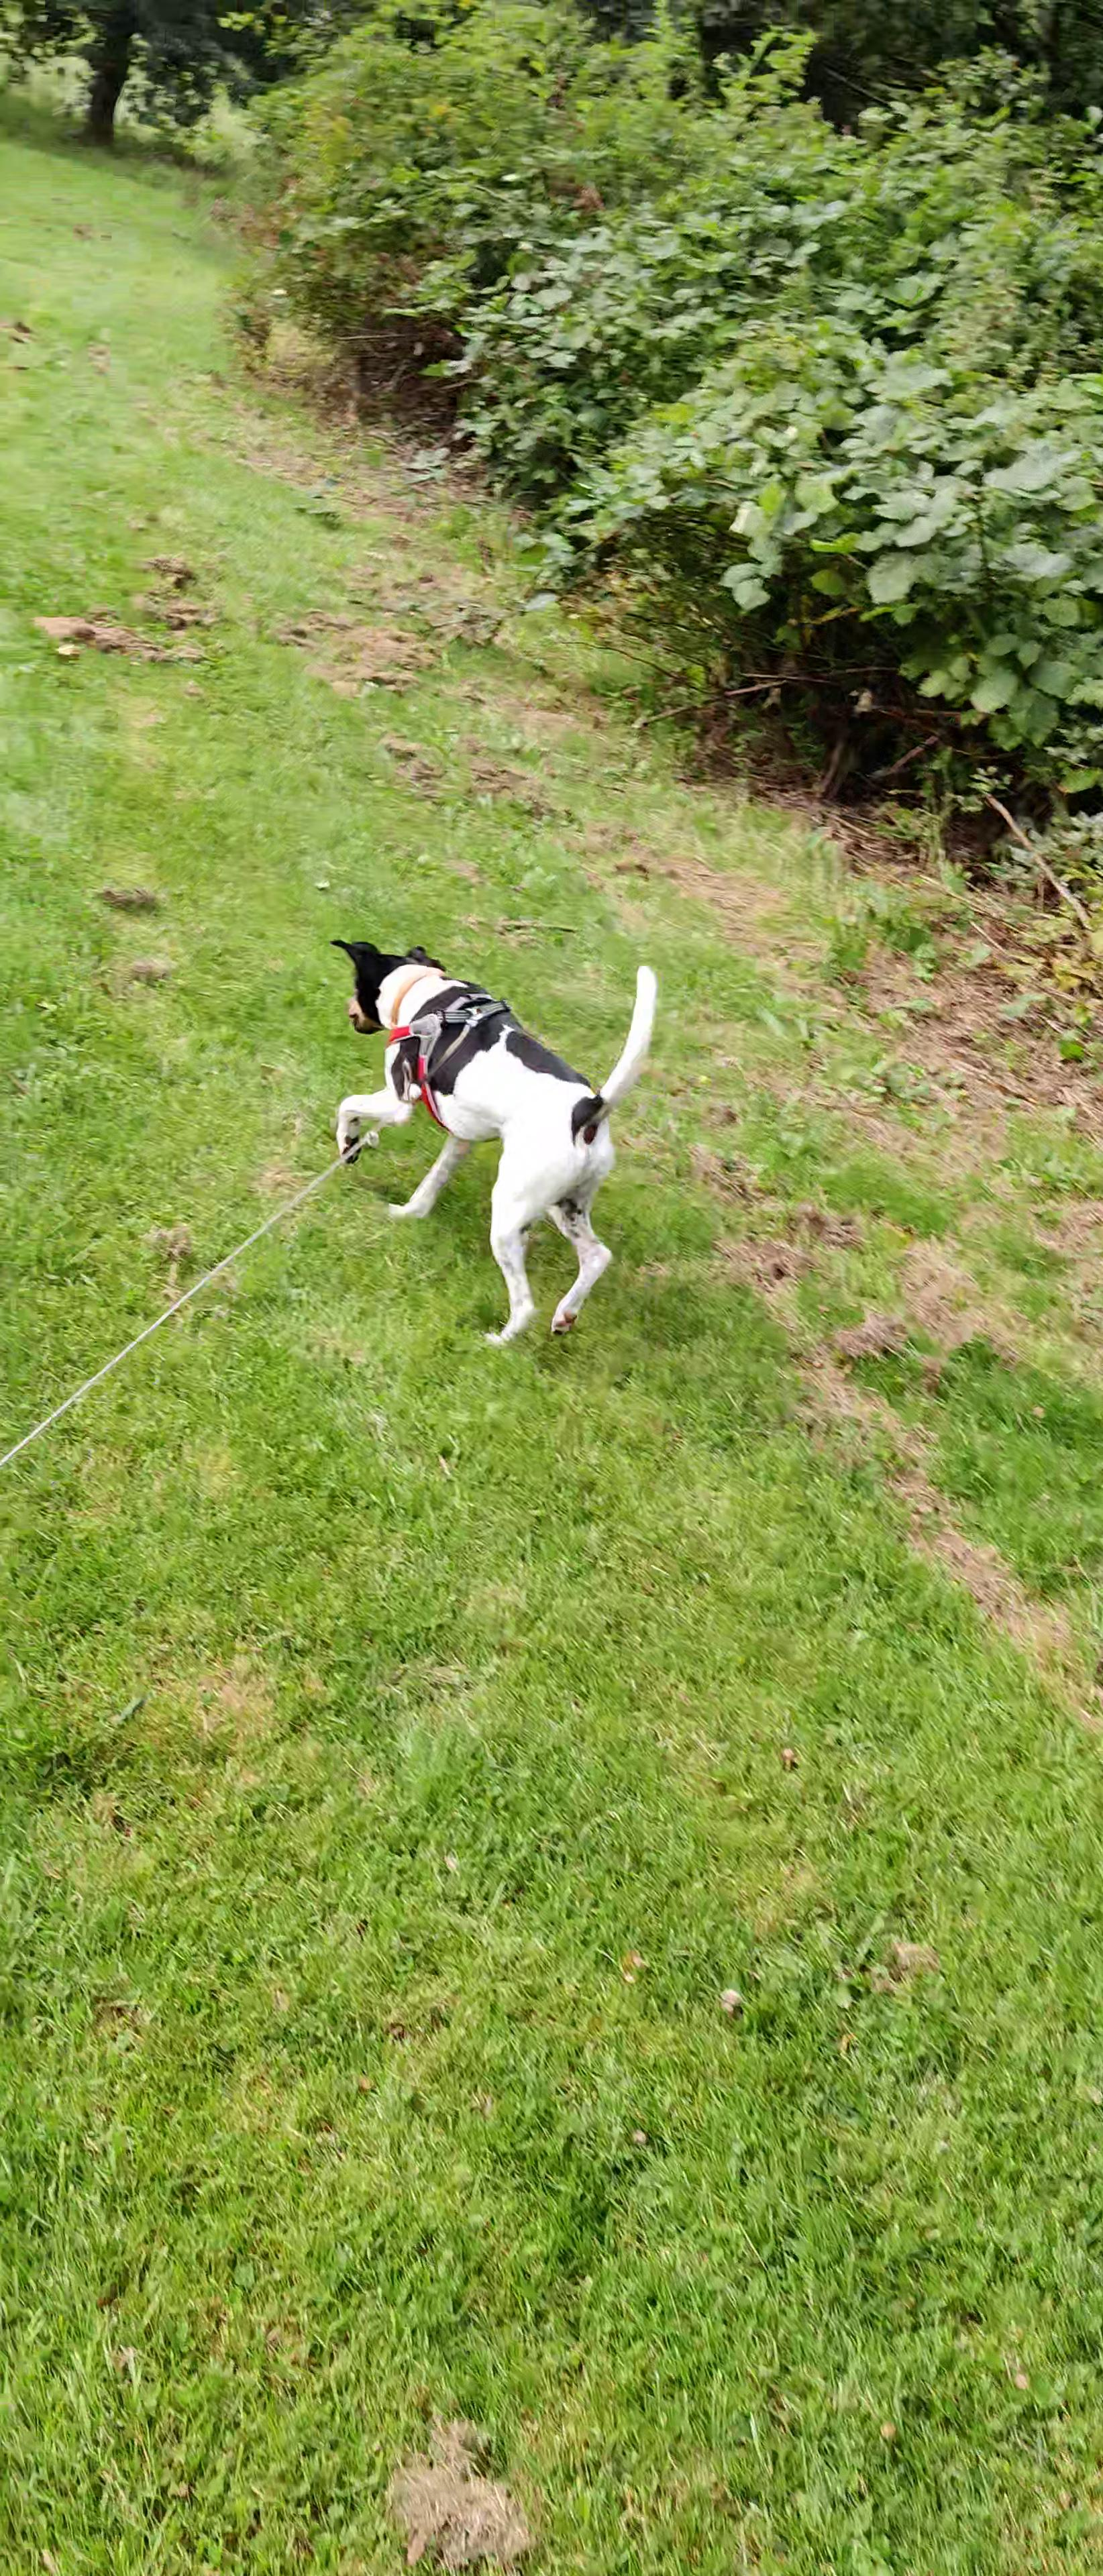Dog: (317, 933, 666, 1360)
